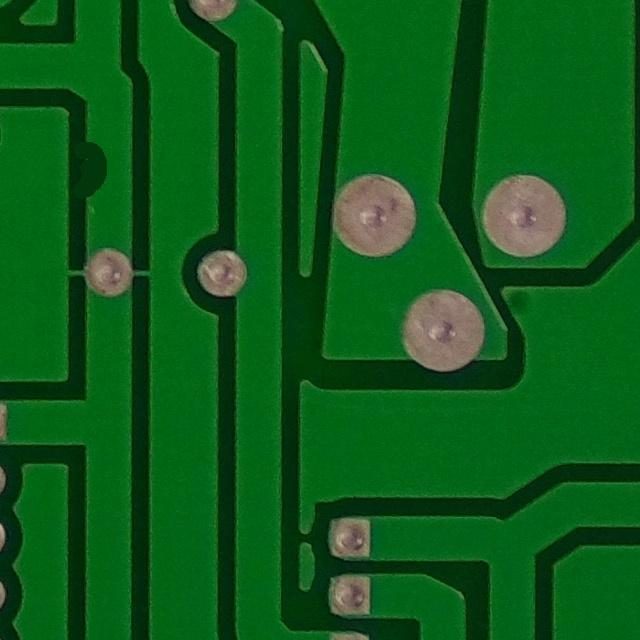mouse_bite: (62, 128, 122, 217)
